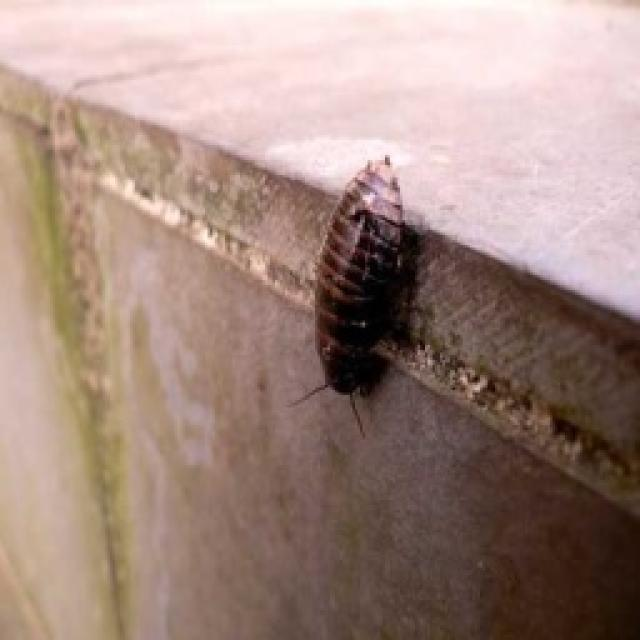cockroach: (267, 136, 438, 448)
